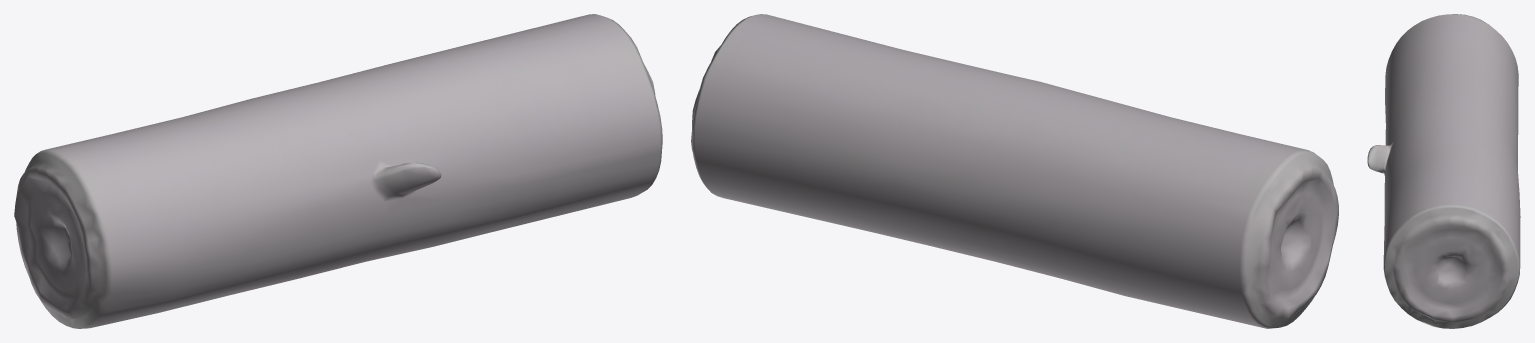
The model's file is roll_good.glb.
3 views of the same model, side by side, from view 1: azimuth 30°, elevation 25°; view 2: azimuth 150°, elevation 25°; view 3: azimuth 270°, elevation 25° (orthographic). The views are drawn at different scales.
Visible parts, largest first — view 1: tripo_node_1753e821-41ff-4a99-9daa-4a4674335c02; view 2: tripo_node_1753e821-41ff-4a99-9daa-4a4674335c02; view 3: tripo_node_1753e821-41ff-4a99-9daa-4a4674335c02.
Boxes of the visible parts, x1=… form: tripo_node_1753e821-41ff-4a99-9daa-4a4674335c02: x1=14, y1=14, x2=662, y2=328; tripo_node_1753e821-41ff-4a99-9daa-4a4674335c02: x1=691, y1=14, x2=1338, y2=328; tripo_node_1753e821-41ff-4a99-9daa-4a4674335c02: x1=1367, y1=14, x2=1520, y2=328.
Size of the model in its own units: 0.9995 by 0.2827 by 0.3169.
Materials: 1 (1 with a texture image).
